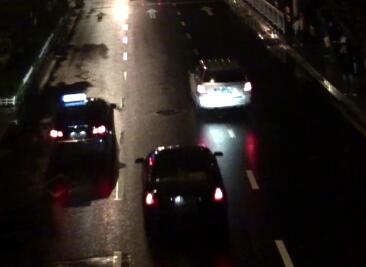car: (133, 143, 228, 230), (39, 93, 117, 163), (186, 58, 251, 112)
